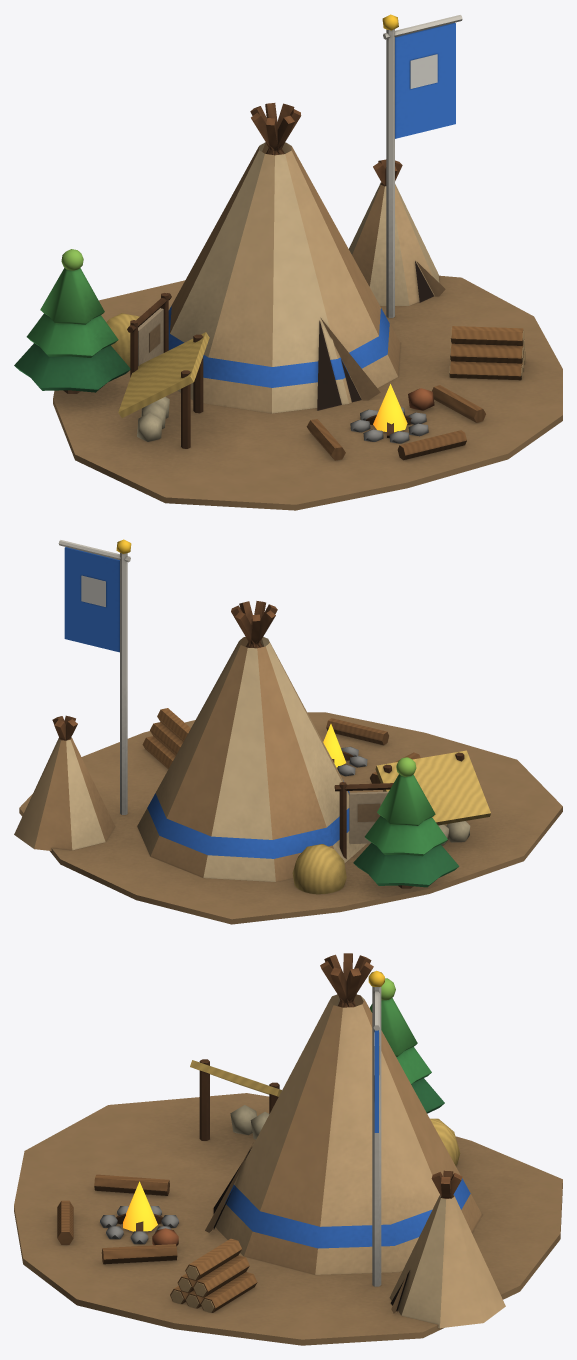
The model's file is residence_dl1_blue.glb.
3 views of the same model, one above another, from view 1: azimuth 30°, elevation 25°; view 2: azimuth 150°, elevation 25°; view 3: azimuth 270°, elevation 25° (orthographic). The views are drawn at different scales.
Parts seen in each view (by area): view 1: residence_dl1_blue; view 2: residence_dl1_blue; view 3: residence_dl1_blue.
Part boxes in pixels (box(x1,y1,x2,y2)): residence_dl1_blue: box(14, 14, 562, 510); residence_dl1_blue: box(14, 539, 562, 924); residence_dl1_blue: box(14, 953, 562, 1345).
Size of the model in its own units: 1.57 by 1.01 by 1.48.
Materials: 3 (1 with a texture image).
